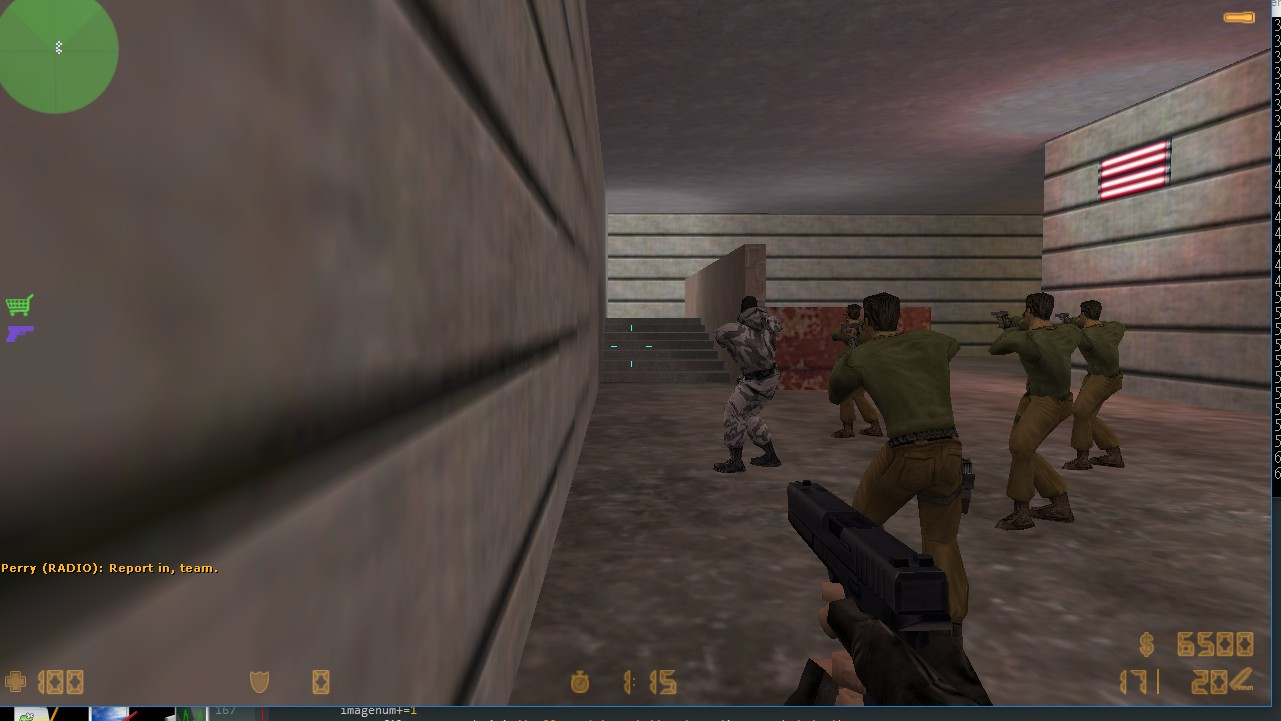person: (833, 296, 979, 629), (992, 283, 1078, 532), (709, 291, 785, 484), (1069, 301, 1122, 480)
